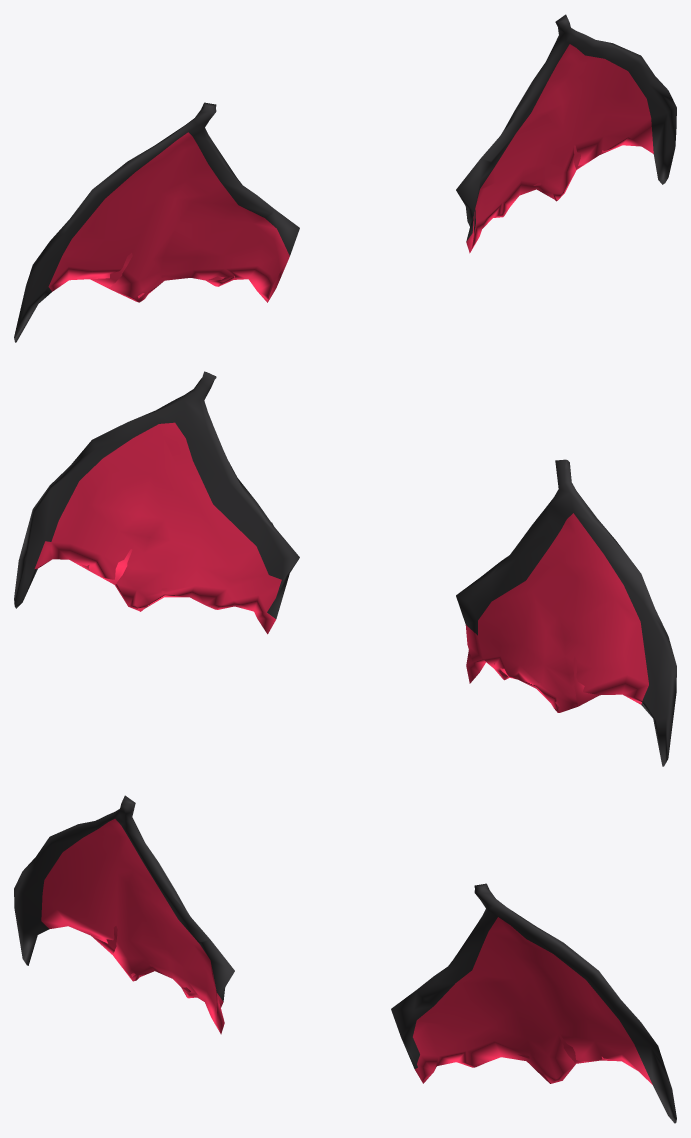
File: Wings_Dragon.glb
3 views of the same model, one above another, from view 1: azimuth 30°, elevation 25°; view 2: azimuth 150°, elevation 25°; view 3: azimuth 330°, elevation 25° (orthographic).
Visible parts, largest first — view 1: Wings_Dragon; view 2: Wings_Dragon; view 3: Wings_Dragon.
Boxes of the visible parts, x1,y1,x2,y2 form: Wings_Dragon: (14, 14, 676, 342); Wings_Dragon: (14, 371, 676, 766); Wings_Dragon: (14, 795, 676, 1123).
Bounding box in the file's own units: 2.7 × 0.9389 × 0.3639.
Materials: 1 (1 with a texture image).
